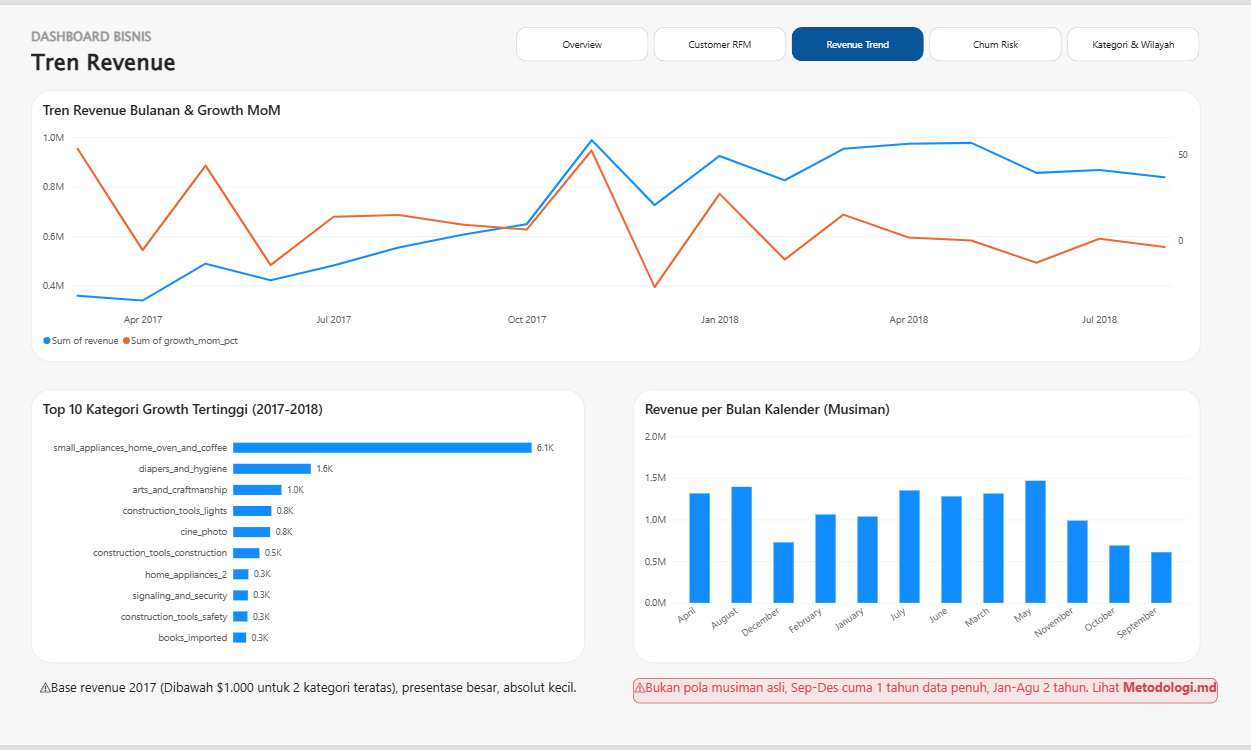

Layout of this report page (visuals, bound fields, positions):
{"tool":"powerbi","page":{"name":"Revenue Trend","canvas":[1920,1080],"ordinal":2},"visuals":[{"type":"lineChart","title":"Tren Revenue Bulanan & Growth MoM","fields":{"Category":["MonthlyRevenue.bulan.Variation.Date Hierarchy.Year"],"Y":["Sum(MonthlyRevenue.revenue)"],"Y2":["Sum(MonthlyRevenue.growth_mom_pct)"]},"box":[106.7,123.3,1706.7,396.7],"z":0},{"type":"barChart","title":"Top 10 Kategori Growth Tertinggi (2017-2018)","fields":{"Category":["CategoryGrowth.category"],"Y":["Sum(CategoryGrowth.growth_pct)"]},"box":[106.7,560,808.3,400],"z":1000},{"type":"clusteredColumnChart","title":"Revenue per Bulan Kalender (Musiman)","fields":{"Category":["Seasonality.nama_bulan"],"Y":["Sum(Seasonality.total_revenue)"]},"box":[985,560,828.3,400],"z":2000},{"type":"textbox","box":[106.7,31.7,300,91.7],"z":3000},{"type":"textbox","box":[106.7,981.7,808.3,36.7],"z":4000},{"type":"textbox","box":[985,981.7,853.3,36.7],"z":5000},{"type":"pageNavigator","box":[814.1,32.1,1000,50],"z":6000}]}

Visuals, with their boxes on the page's 1920x1080 design canvas (x1, y1, x2, y2). These are canvas units, not pixel positions in the 1251x750 screenshot, which may show the page scaled, cropped or inside an application window:
"Tren Revenue Bulanan & Growth MoM" lineChart: bbox=(107, 123, 1813, 520)
"Top 10 Kategori Growth Tertinggi (2017-2018)" barChart: bbox=(107, 560, 915, 960)
"Revenue per Bulan Kalender (Musiman)" clusteredColumnChart: bbox=(985, 560, 1813, 960)
textbox: bbox=(107, 32, 407, 123)
textbox: bbox=(107, 982, 915, 1018)
textbox: bbox=(985, 982, 1838, 1018)
pageNavigator: bbox=(814, 32, 1814, 82)
